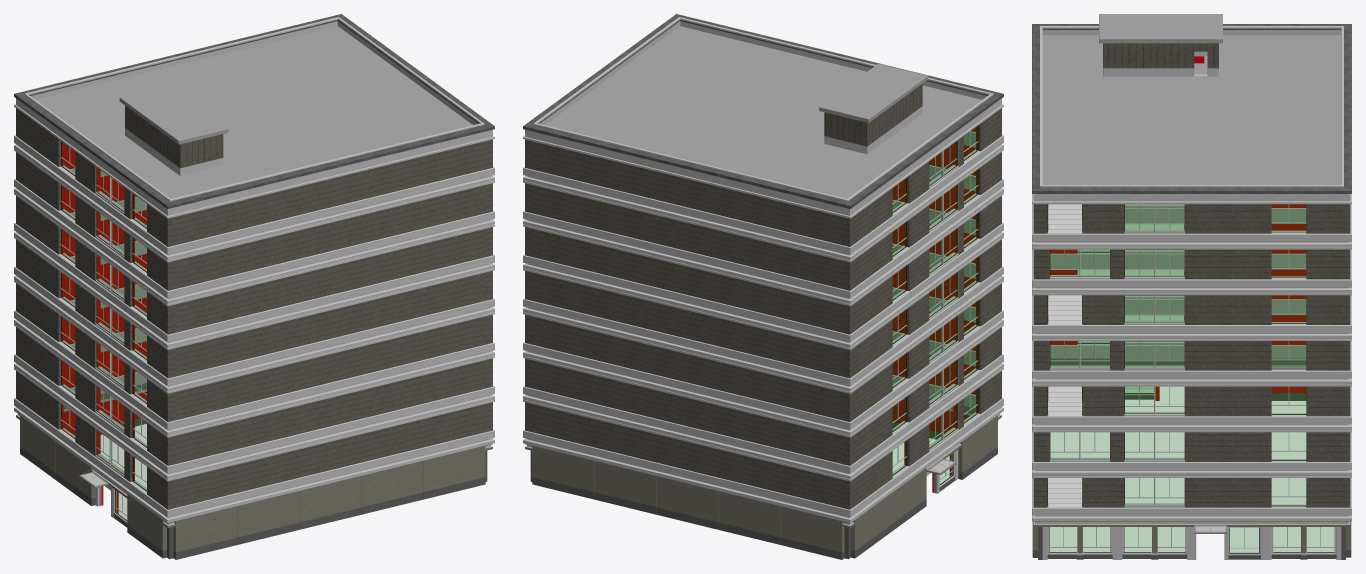
File: SM_Building22_V3.fbx
The picture shows the model from 3 angles, left to right: view 1: azimuth 30°, elevation 25°; view 2: azimuth 150°, elevation 25°; view 3: azimuth 270°, elevation 25°; orthographic projection. The views are drawn at different scales.
Visible parts, largest first — view 1: SM_Building22_V3; view 2: SM_Building22_V3; view 3: SM_Building22_V3.
Part boxes in pixels (bbox=[...]): SM_Building22_V3: bbox=[14, 14, 494, 559]; SM_Building22_V3: bbox=[523, 14, 1003, 559]; SM_Building22_V3: bbox=[1032, 14, 1351, 559].
Bounding box in the file's own units: 3416 × 3584 × 2572.
